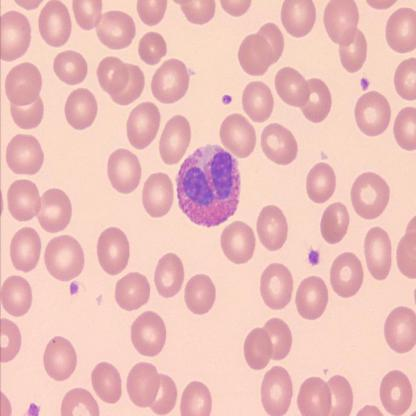Eosinophil: (177, 146, 241, 228)
